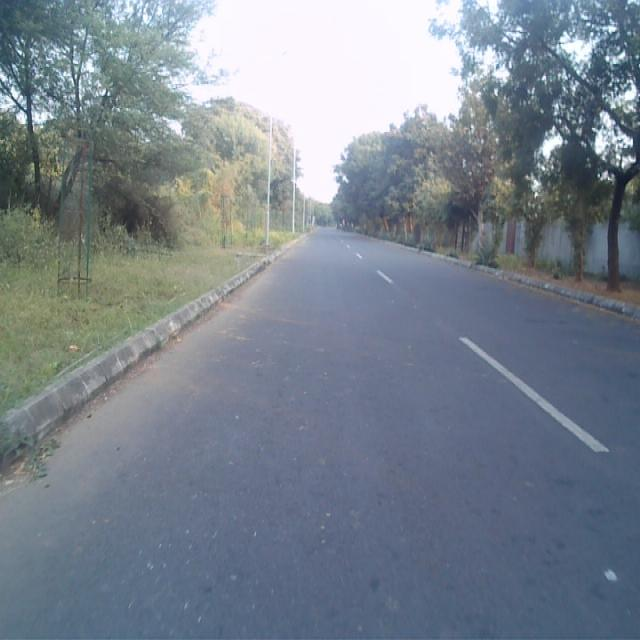lane: (0, 230, 640, 640)
